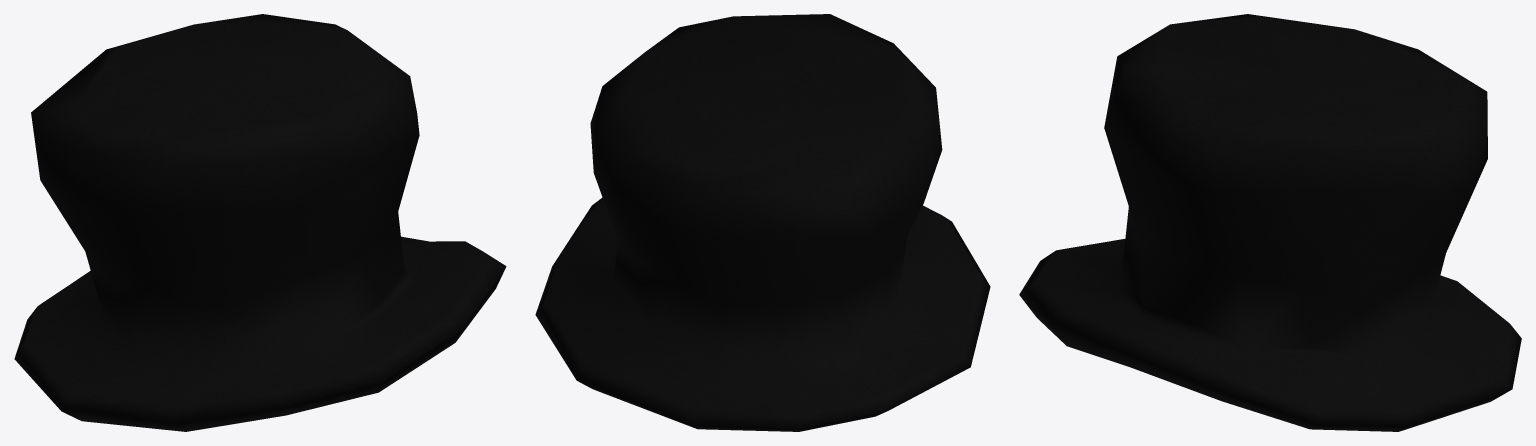
File: tophat.fbx
3 views of the same model, side by side, from view 1: azimuth 30°, elevation 25°; view 2: azimuth 150°, elevation 25°; view 3: azimuth 270°, elevation 25° (orthographic). The views are drawn at different scales.
Parts seen in each view (by area): view 1: polySurface1; view 2: polySurface1; view 3: polySurface1.
Boxes of the visible parts, box(x1,y1,x2,y2) form: polySurface1: box(14, 14, 506, 431); polySurface1: box(535, 14, 990, 431); polySurface1: box(1019, 14, 1521, 431).
Bounding box in the file's own units: 46.19 × 32.23 × 47.58.
Materials: 1 (1 with a texture image).
